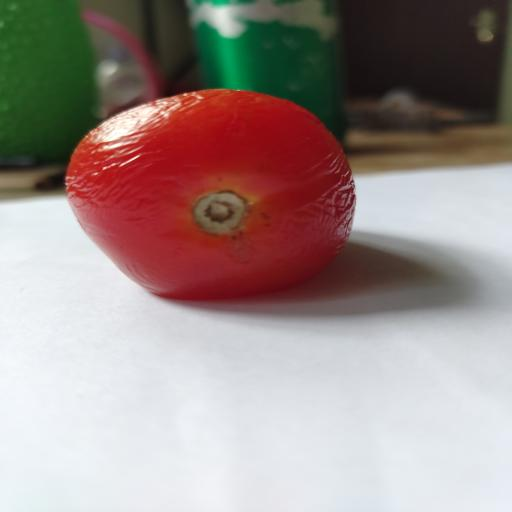spoiled: (66, 90, 355, 299)
